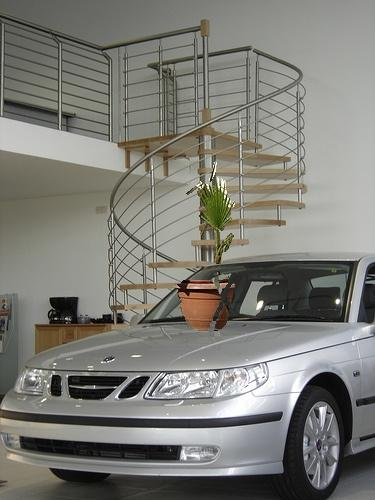tampered: (175, 162, 235, 331)
